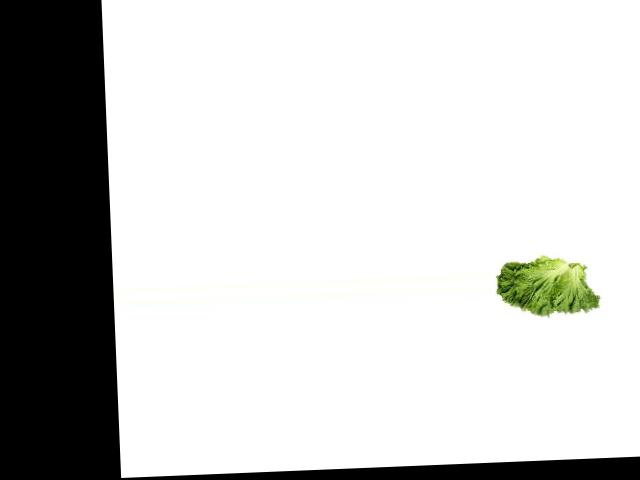lettuce: (494, 249, 600, 326)
